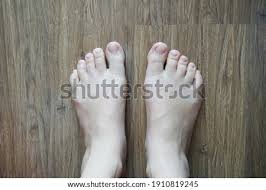Feet: (142, 42, 204, 175), (68, 41, 127, 173)
